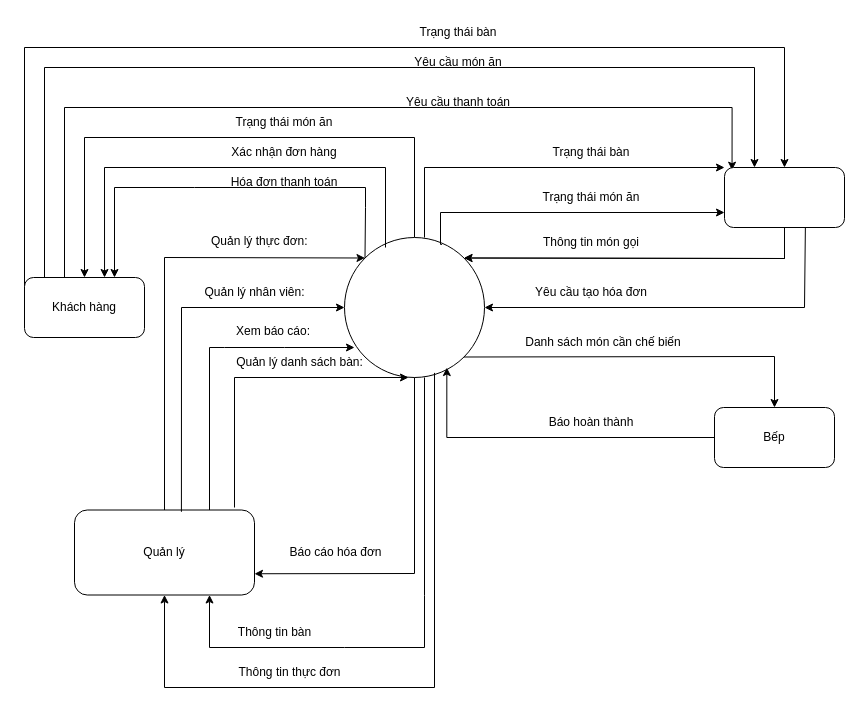
Image size: 862x713. Some labels were removed from this diagram. The shapes that lost their labels are listed below. From the top down, each one's centre as x and y in pixels, then its label:
[784,197]: Order
[414,307]: Quản lý nhà hàng
